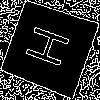H: (24, 23, 79, 73)
